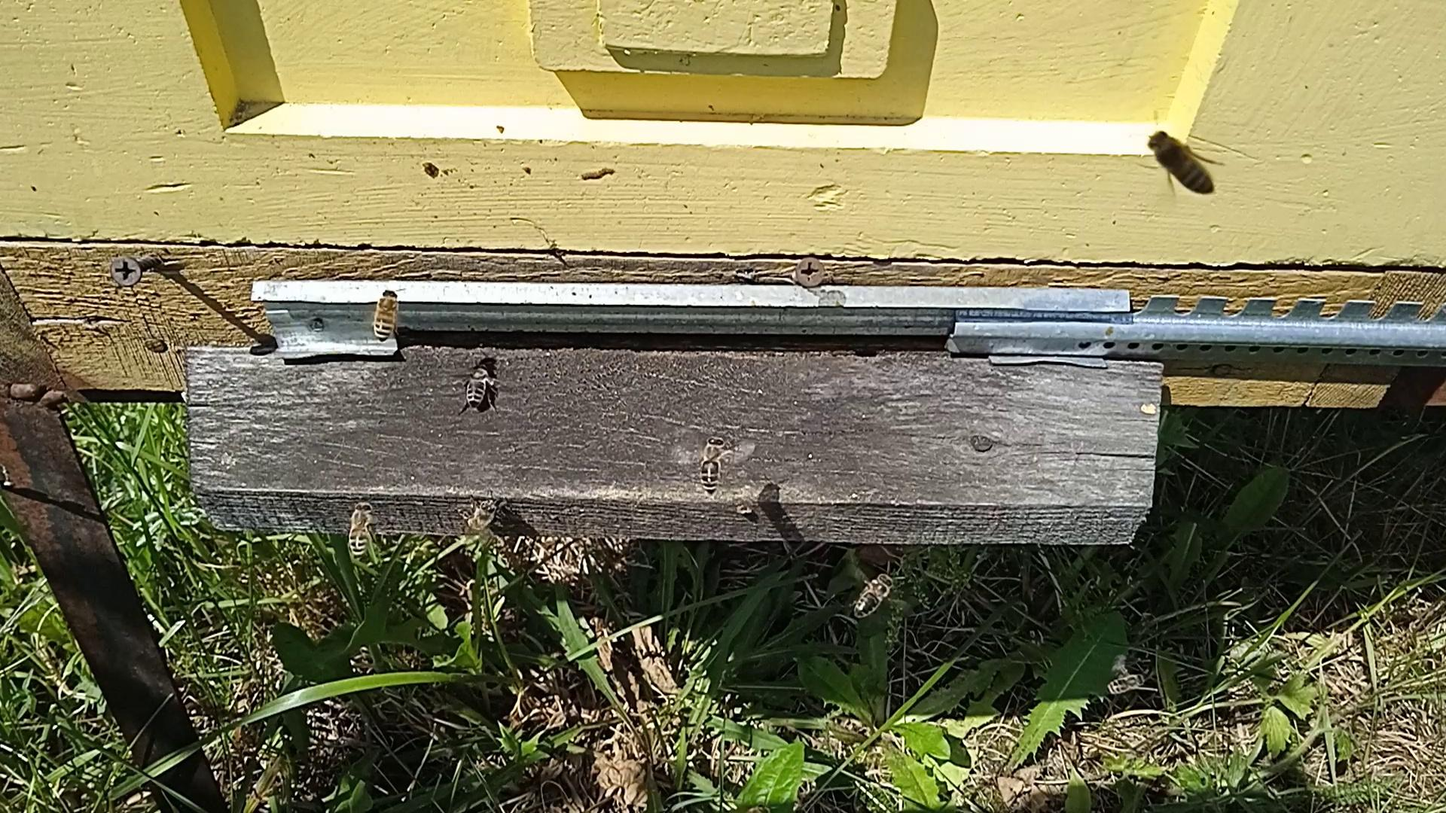worker-bee: (1147, 129, 1216, 195), (853, 571, 896, 618), (697, 434, 729, 495), (460, 361, 496, 410), (372, 288, 404, 341), (346, 501, 375, 559), (461, 501, 500, 541), (1108, 672, 1144, 694)
